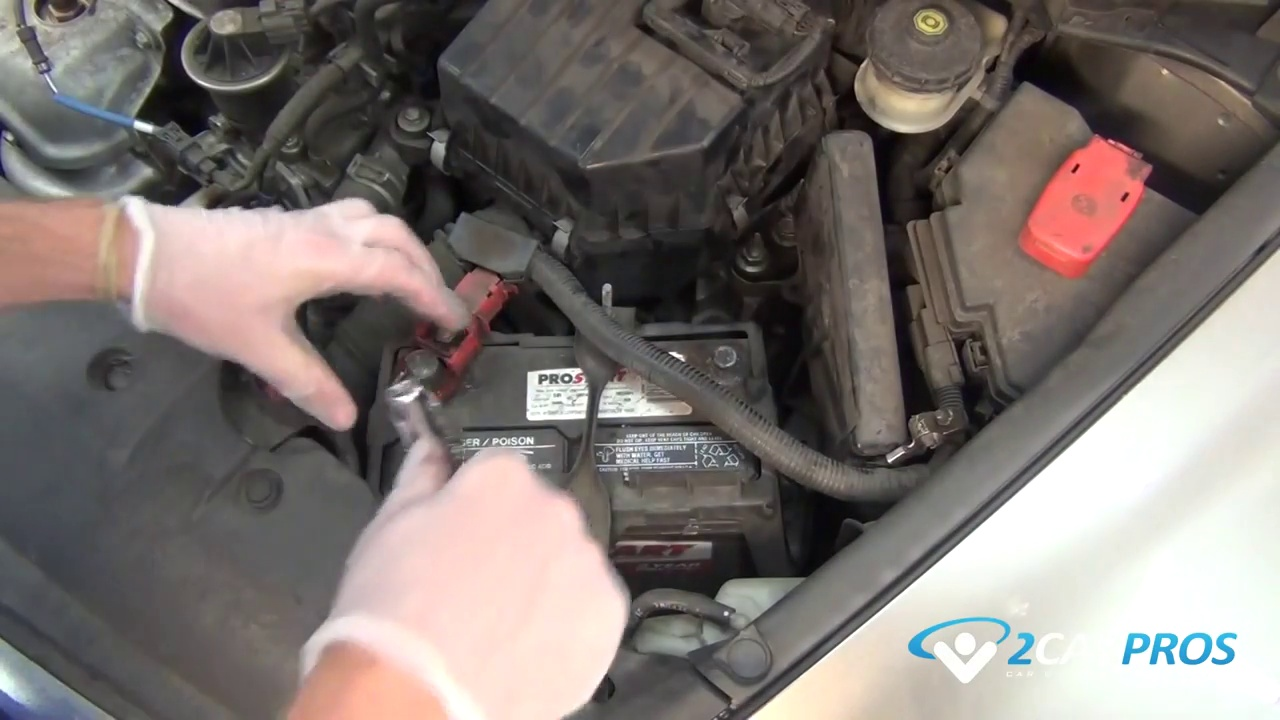battery: (366, 319, 772, 517)
neg_disconnected: (689, 323, 762, 395)
pos_touched: (326, 203, 476, 424)
